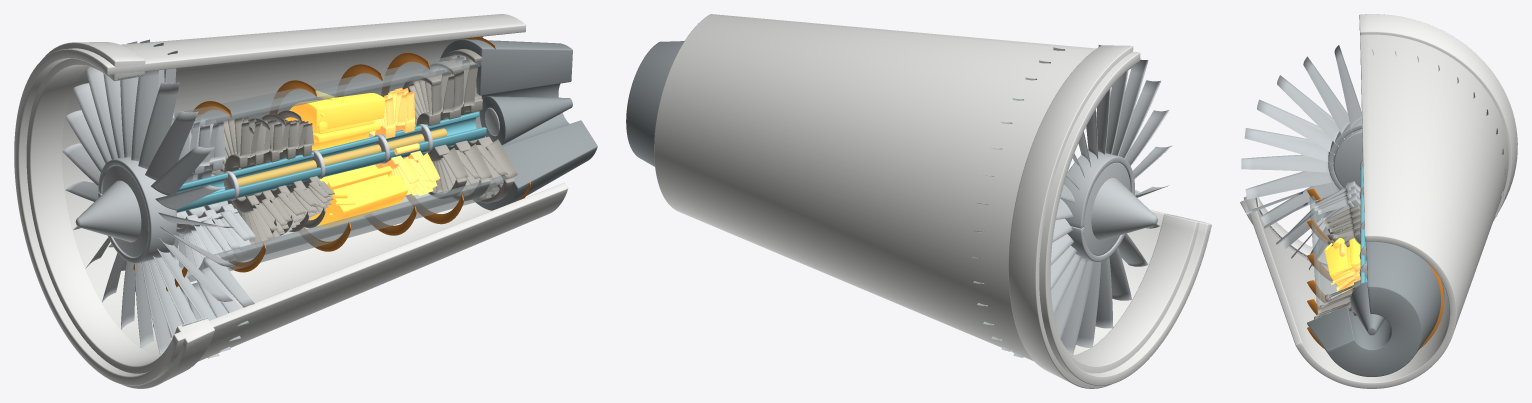
Rendered from turbofan-parts.glb.
The picture shows the model from 3 angles, left to right: view 1: azimuth 30°, elevation 25°; view 2: azimuth 150°, elevation 25°; view 3: azimuth 270°, elevation 25°; orthographic projection. The views are drawn at different scales.
Parts seen in each view (by area): view 1: bypass_duct, fan_geometry, inlet_lip, nozzle_geometry, core_case, lp_turbine_geometry, hp_compressor_geometry, combustor_geometry, lp_shaft, lp_compressor_geometry, section_markers, hp_turbine_geometry (+1 smaller); view 2: bypass_duct, fan_geometry, inlet_lip, nozzle_geometry; view 3: bypass_duct, fan_geometry, nozzle_geometry, inlet_lip, core_case, section_markers, hp_compressor_geometry, combustor_geometry, lp_compressor_geometry, lp_turbine_geometry, hp_turbine_geometry, lp_shaft.
Part boxes in pixels (x1,y1,x2,y2): bypass_duct: (14,14,568,385); fan_geometry: (62,39,254,358); inlet_lip: (26,42,214,388); nozzle_geometry: (439,39,597,210); core_case: (171,55,506,281); lp_turbine_geometry: (402,49,517,203); hp_compressor_geometry: (212,110,334,246); combustor_geometry: (285,91,408,227); lp_shaft: (176,111,486,212); lp_compressor_geometry: (170,116,256,278); section_markers: (133,37,530,291); hp_turbine_geometry: (368,88,440,195); bypass_duct: (654,14,1211,385); fan_geometry: (972,45,1172,357); inlet_lip: (1008,45,1205,388); nozzle_geometry: (626,41,684,166); bypass_duct: (1244,34,1508,388); fan_geometry: (1241,45,1505,269); nozzle_geometry: (1307,241,1444,376); inlet_lip: (1240,14,1517,267); core_case: (1309,196,1346,317); section_markers: (1307,188,1444,349); hp_compressor_geometry: (1323,204,1360,247); combustor_geometry: (1324,238,1360,289); lp_compressor_geometry: (1313,181,1360,230); lp_turbine_geometry: (1314,280,1360,319); hp_turbine_geometry: (1331,243,1360,293); lp_shaft: (1360,166,1367,283).
Size of the model in its own units: 9.19 by 5.71 by 5.44.
